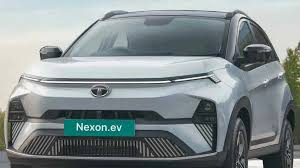Tata Nexon: (4, 11, 295, 168)
